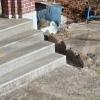stairs: (0, 19, 67, 98)
